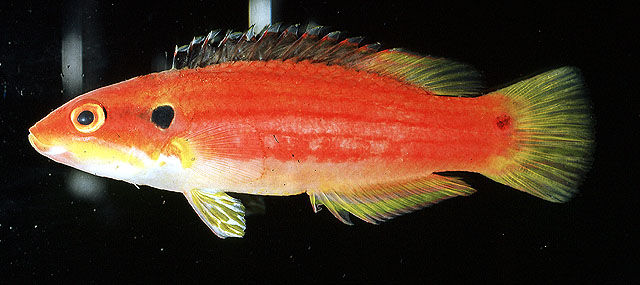fish: (28, 24, 590, 238)
